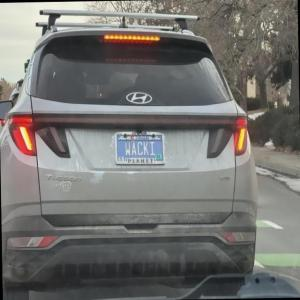Plate: (114, 131, 166, 165)
